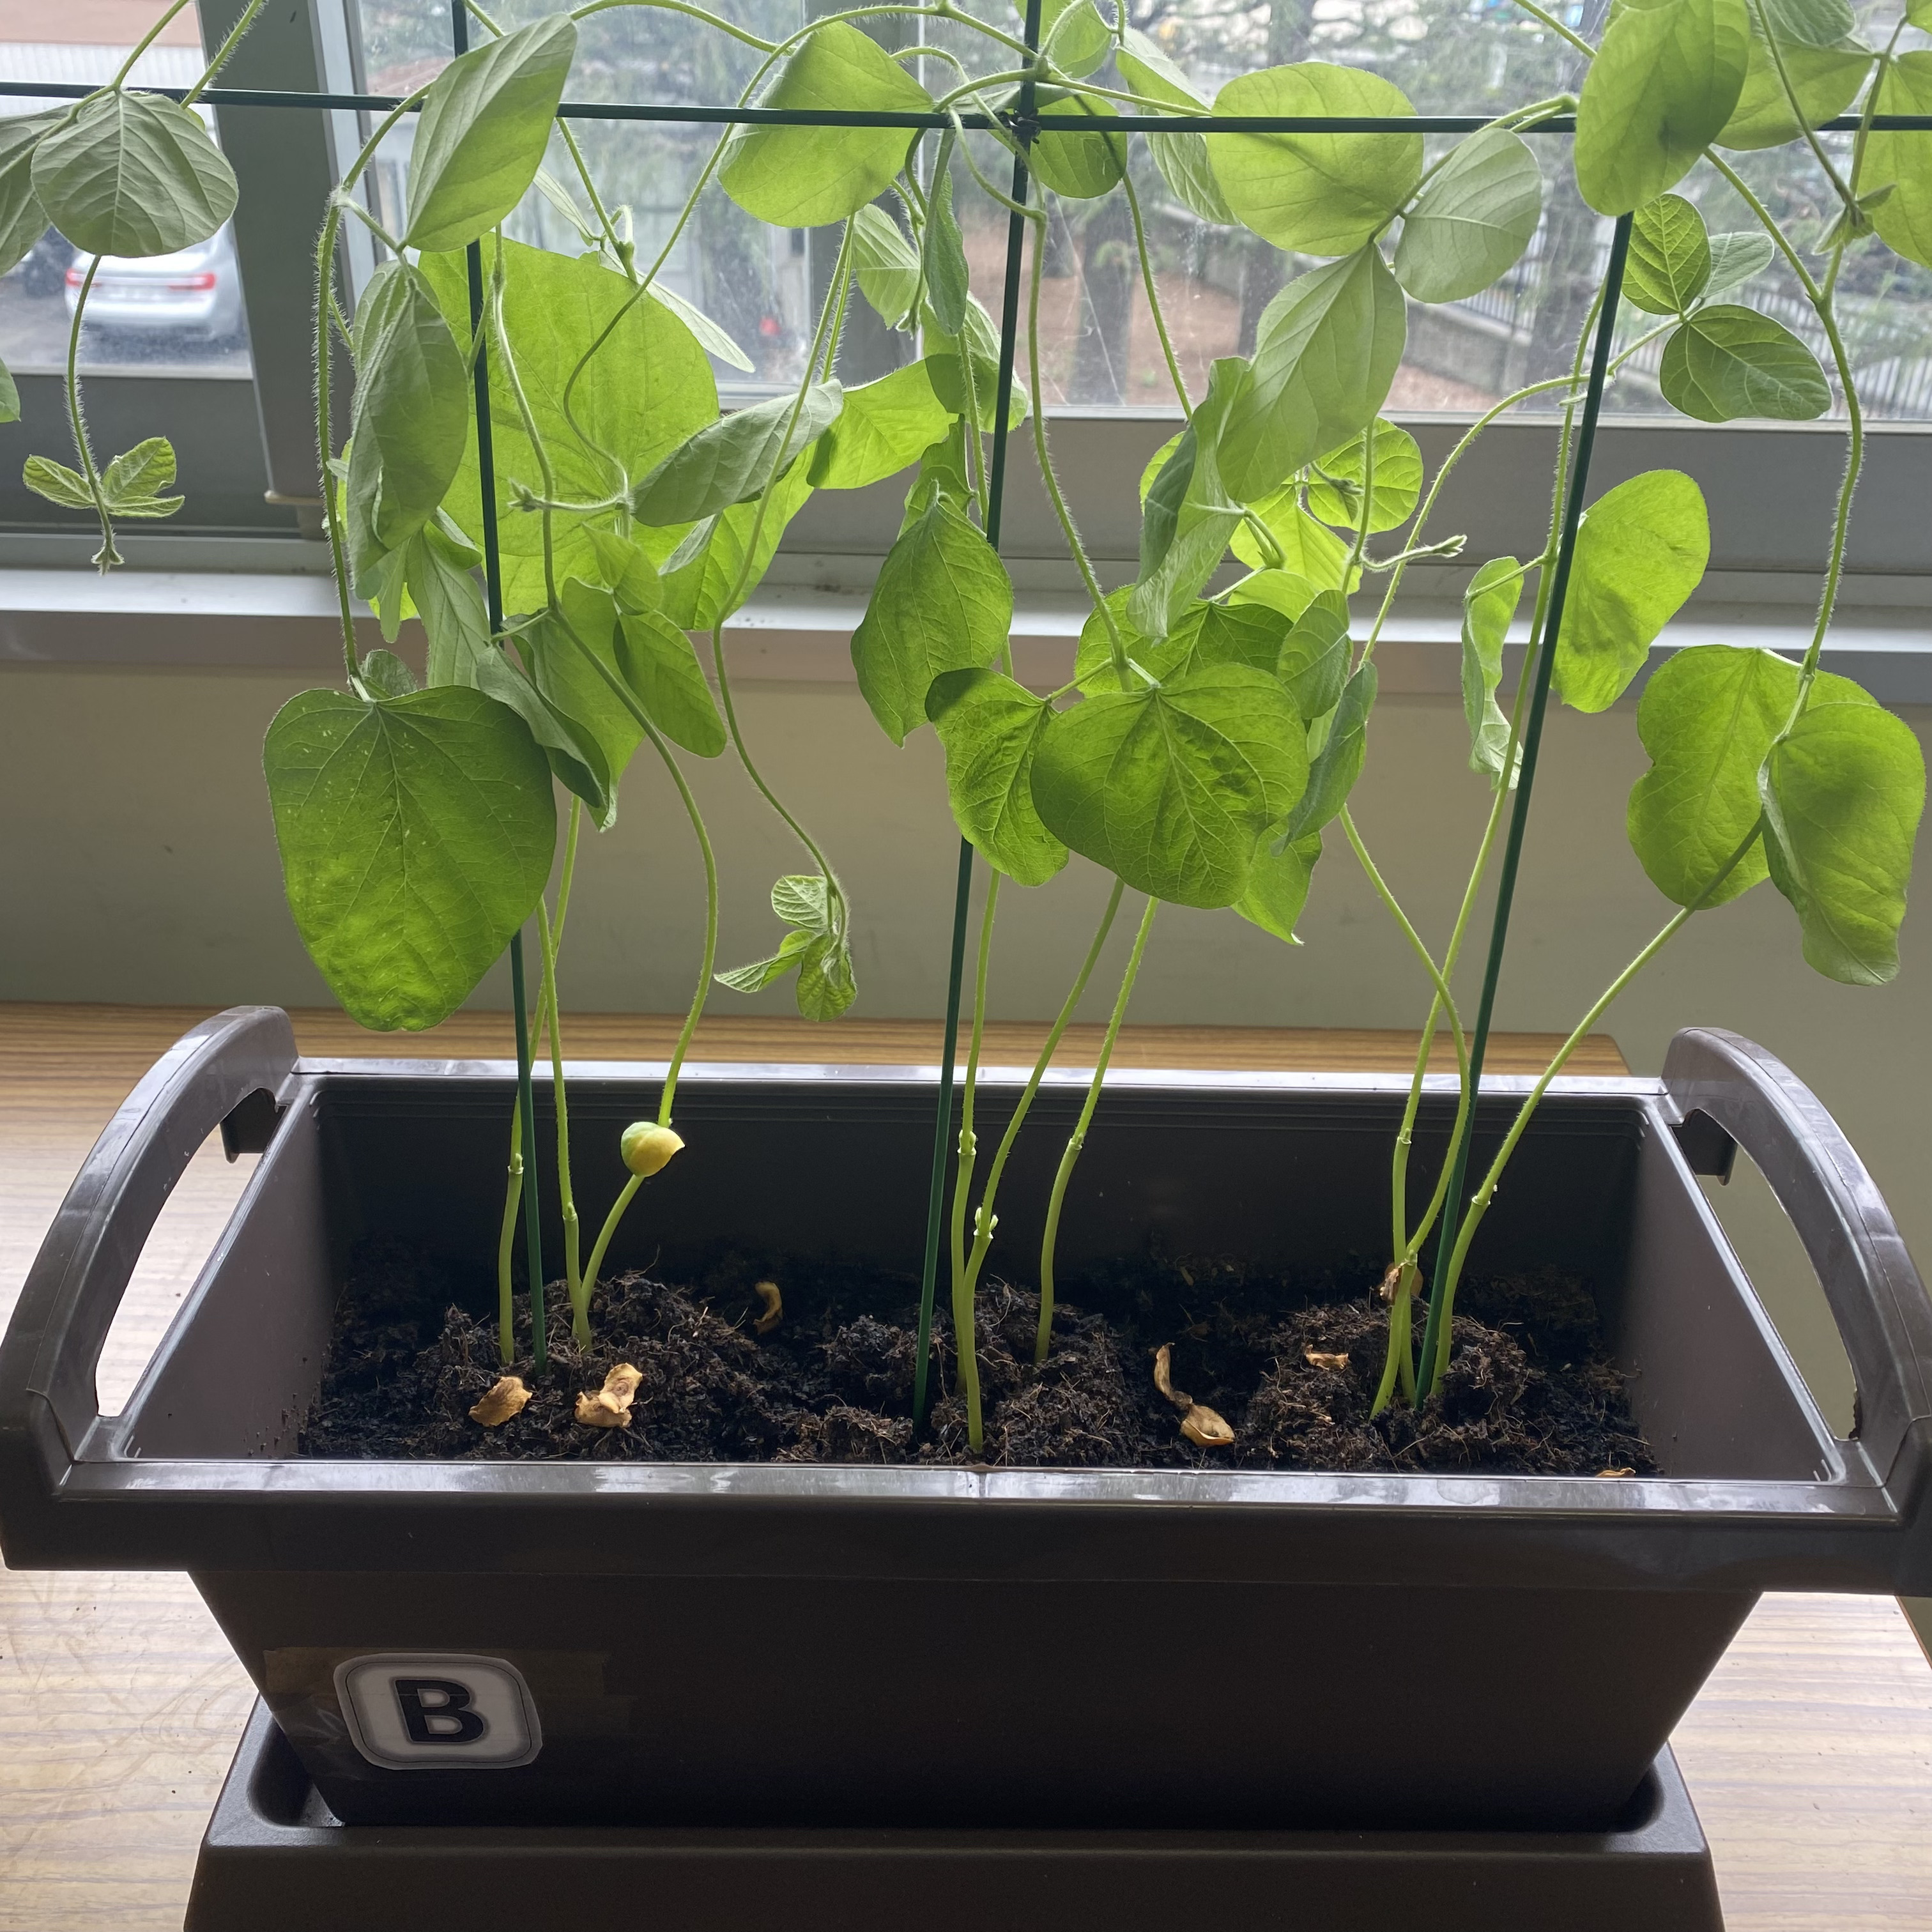healthy: (381, 218, 733, 618), (250, 680, 558, 1033), (1630, 640, 1929, 990), (1032, 661, 1313, 921), (1216, 242, 1419, 512), (723, 11, 932, 244), (390, 13, 589, 257), (1202, 61, 1421, 257), (1542, 469, 1713, 716), (850, 499, 1025, 739), (33, 78, 254, 255), (919, 670, 1094, 893), (1570, 2, 1747, 220), (1388, 123, 1561, 307), (1659, 300, 1838, 430), (100, 436, 178, 512), (19, 447, 98, 519)
leaf scorch 90%: (576, 1355, 645, 1433), (463, 1372, 541, 1435), (1174, 1400, 1254, 1457)
soybean: (619, 1117, 688, 1176)
